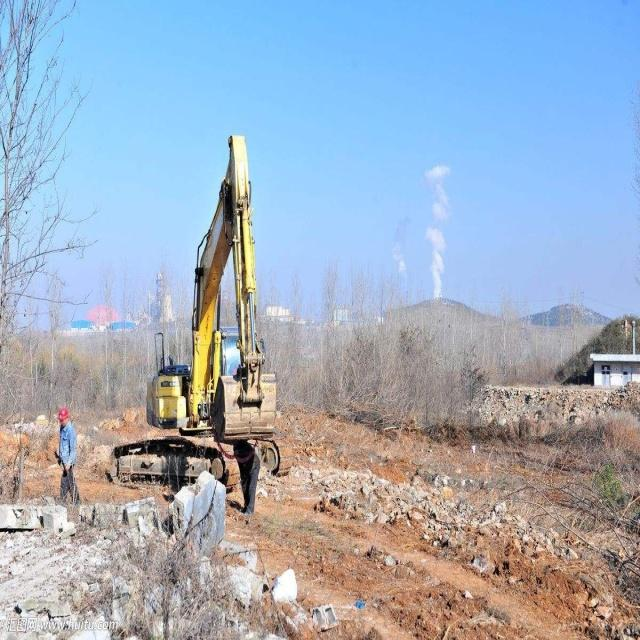helmet: (57, 543, 70, 572)
